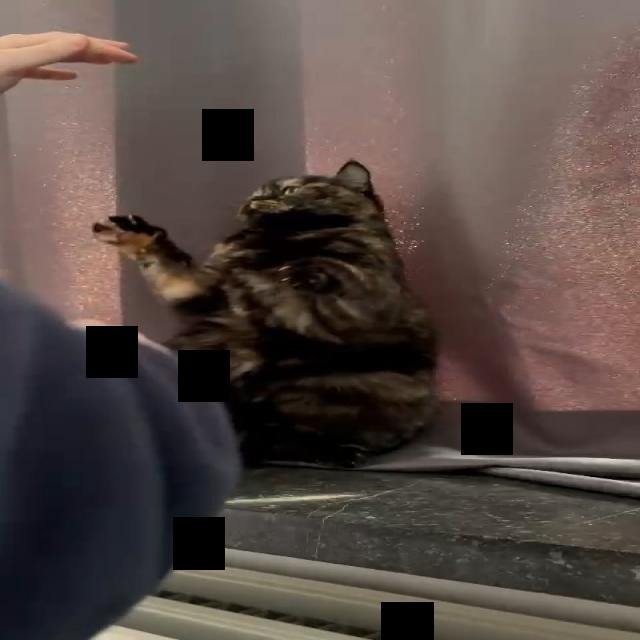authorized: (90, 158, 442, 468)
